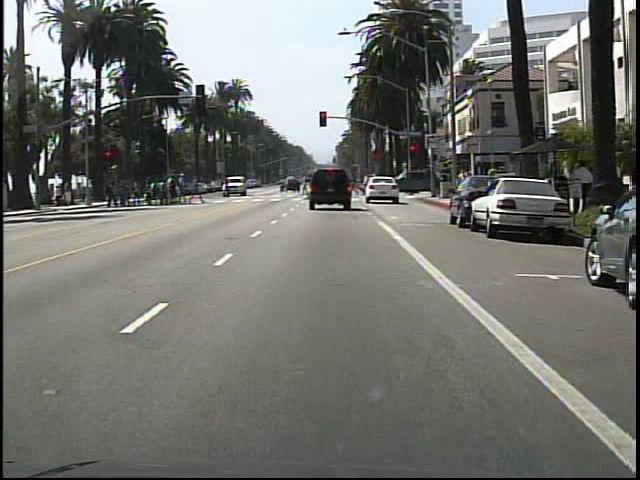person: (566, 157, 596, 219), (217, 173, 236, 202)
